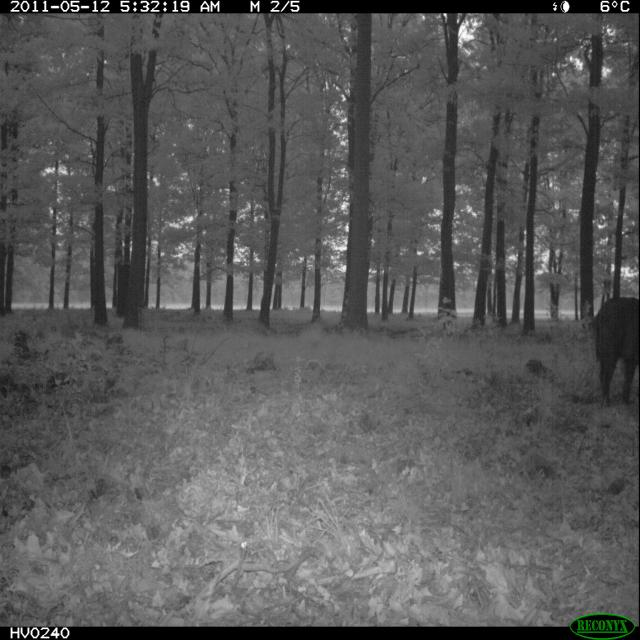boar: (573, 269, 640, 423)
